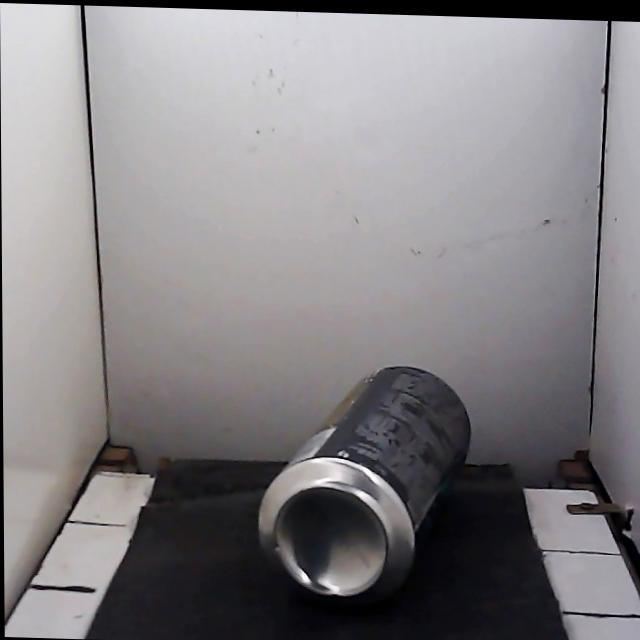metal: (259, 366, 470, 599)
